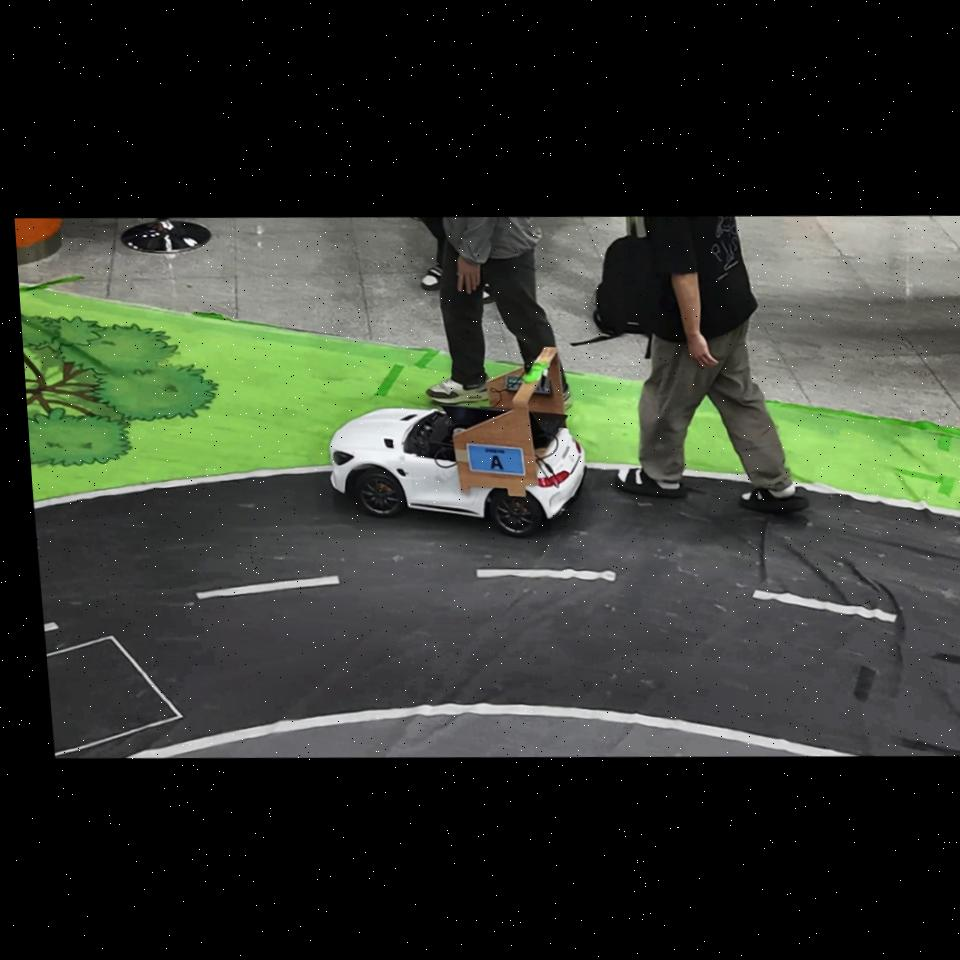broken_line: (752, 590, 897, 622), (197, 576, 340, 599), (476, 569, 616, 582), (44, 622, 58, 632)
